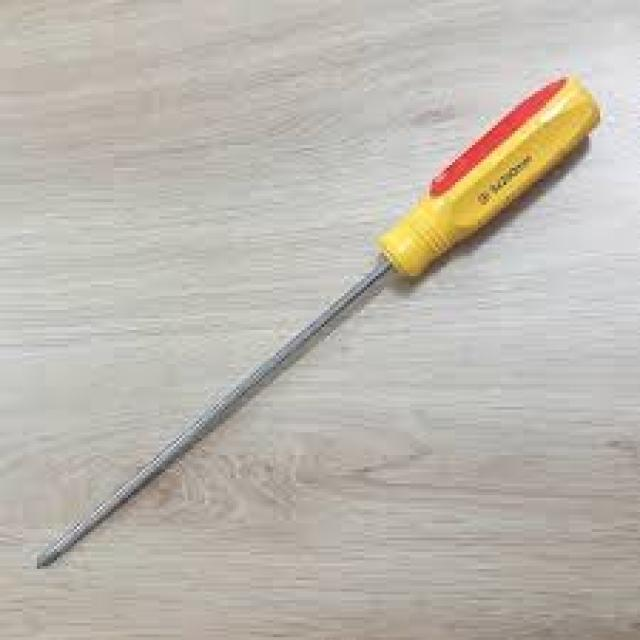screwdriver: (37, 75, 603, 570)
